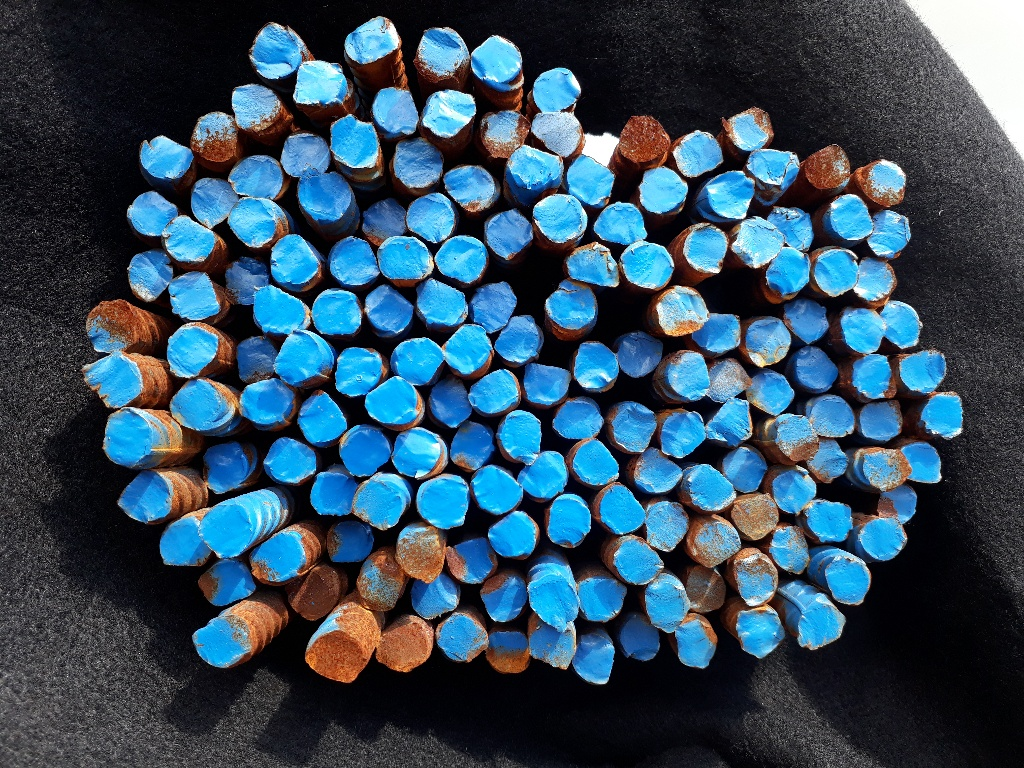dipstick: (79, 351, 142, 409), (245, 21, 304, 79), (164, 322, 222, 381), (101, 408, 158, 468), (305, 628, 366, 684), (469, 31, 526, 90), (168, 380, 232, 432), (273, 330, 334, 384), (394, 522, 447, 584), (192, 614, 254, 666), (284, 564, 341, 620), (416, 473, 472, 529), (541, 276, 597, 332), (376, 615, 430, 673), (238, 376, 299, 427), (686, 511, 742, 566), (468, 462, 525, 516), (330, 111, 380, 172), (799, 591, 848, 653), (299, 168, 355, 222), (728, 549, 781, 606), (249, 531, 308, 582), (195, 557, 257, 605), (353, 475, 407, 530), (268, 233, 322, 288), (356, 550, 403, 613), (525, 611, 576, 669), (607, 537, 668, 585), (417, 25, 470, 80), (391, 138, 446, 191), (730, 216, 785, 269), (248, 284, 310, 331), (528, 575, 580, 631), (203, 443, 260, 494), (344, 15, 403, 64), (336, 422, 391, 474), (439, 323, 494, 375), (533, 192, 589, 243), (292, 61, 352, 108), (645, 570, 689, 634), (118, 470, 172, 522), (678, 222, 730, 276), (199, 503, 254, 554), (87, 299, 137, 355), (507, 143, 564, 192), (376, 235, 435, 282), (593, 484, 648, 534), (297, 388, 346, 444), (699, 171, 755, 220), (421, 89, 478, 137), (619, 242, 676, 290), (734, 607, 786, 659), (124, 250, 175, 303), (436, 612, 489, 663), (608, 399, 658, 453), (663, 349, 713, 403), (365, 376, 423, 422), (718, 107, 776, 153), (569, 629, 614, 688), (328, 235, 380, 286), (393, 425, 443, 478), (164, 215, 218, 264), (682, 463, 737, 511), (481, 107, 531, 159), (371, 85, 421, 137), (416, 276, 468, 326), (516, 449, 569, 498), (190, 109, 238, 163), (486, 208, 534, 262), (138, 135, 195, 180), (447, 536, 497, 587), (718, 445, 769, 495), (849, 353, 900, 403), (572, 341, 622, 392), (312, 286, 362, 337), (657, 286, 708, 336), (811, 248, 861, 299), (435, 235, 487, 284), (162, 514, 210, 567), (544, 495, 591, 549), (530, 111, 585, 157), (390, 337, 445, 383), (191, 177, 241, 227), (445, 164, 496, 213), (232, 82, 284, 130), (767, 468, 819, 516), (570, 437, 622, 485), (614, 330, 666, 378), (335, 345, 383, 397), (229, 197, 277, 249), (594, 199, 648, 245), (263, 437, 319, 481), (326, 515, 376, 564), (479, 572, 528, 622), (823, 555, 872, 605), (770, 414, 819, 464), (838, 303, 887, 353), (745, 368, 795, 417), (310, 470, 361, 518), (496, 314, 544, 365), (467, 280, 515, 331), (857, 156, 908, 204), (170, 272, 222, 319), (799, 144, 853, 189), (676, 614, 719, 670), (487, 511, 536, 560), (899, 347, 948, 396), (360, 196, 409, 245), (659, 408, 707, 458), (638, 166, 688, 214), (825, 192, 876, 239), (366, 284, 412, 336), (767, 244, 810, 299), (792, 345, 841, 393), (234, 336, 282, 385), (229, 157, 285, 199), (733, 492, 780, 542), (878, 299, 925, 349), (707, 399, 757, 446), (407, 191, 454, 241), (781, 297, 831, 344), (468, 368, 519, 414), (126, 191, 178, 236), (551, 396, 603, 441), (500, 410, 542, 465), (225, 256, 271, 306), (745, 316, 791, 366), (858, 516, 909, 561), (450, 421, 495, 472), (858, 446, 910, 490), (670, 131, 723, 174), (768, 203, 816, 250), (646, 498, 687, 553), (533, 67, 582, 113), (683, 564, 728, 614), (618, 116, 668, 161), (282, 132, 333, 176), (579, 576, 626, 623), (523, 359, 572, 404), (769, 525, 813, 575), (618, 614, 662, 663), (804, 500, 854, 543), (807, 395, 858, 437), (635, 448, 683, 492), (429, 374, 472, 423), (747, 149, 799, 189), (707, 357, 751, 404), (869, 210, 913, 257), (856, 255, 899, 303), (921, 391, 964, 438), (412, 577, 462, 617), (486, 630, 531, 674), (903, 440, 944, 487), (859, 402, 906, 442), (810, 441, 852, 482), (699, 313, 743, 352), (875, 487, 918, 523)
